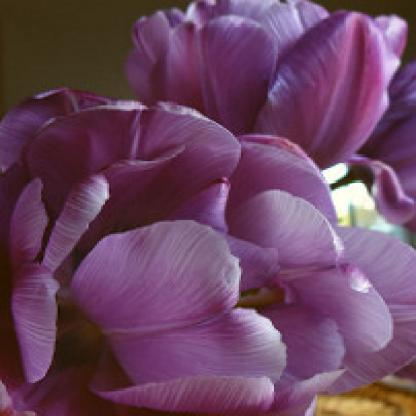TULIP: (30, 17, 396, 403)
